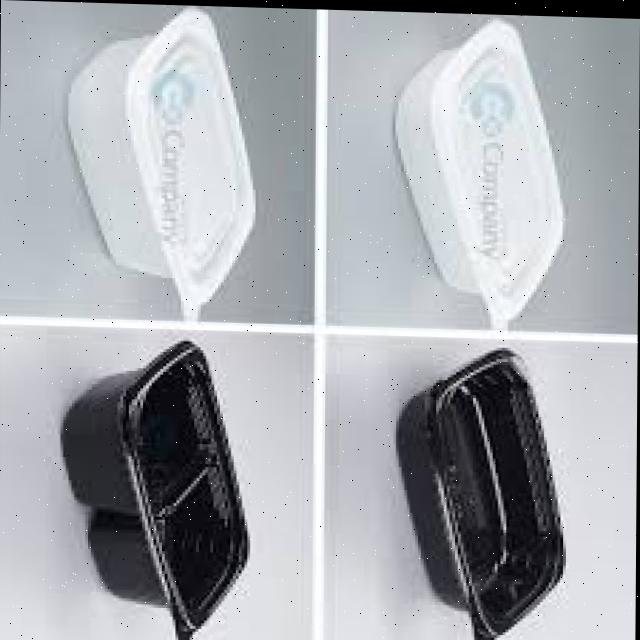disposable: (57, 9, 258, 325), (62, 327, 256, 639), (388, 341, 580, 640), (393, 21, 565, 328)
